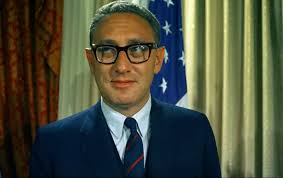middle_eastern_male: (81, 2, 171, 110)
